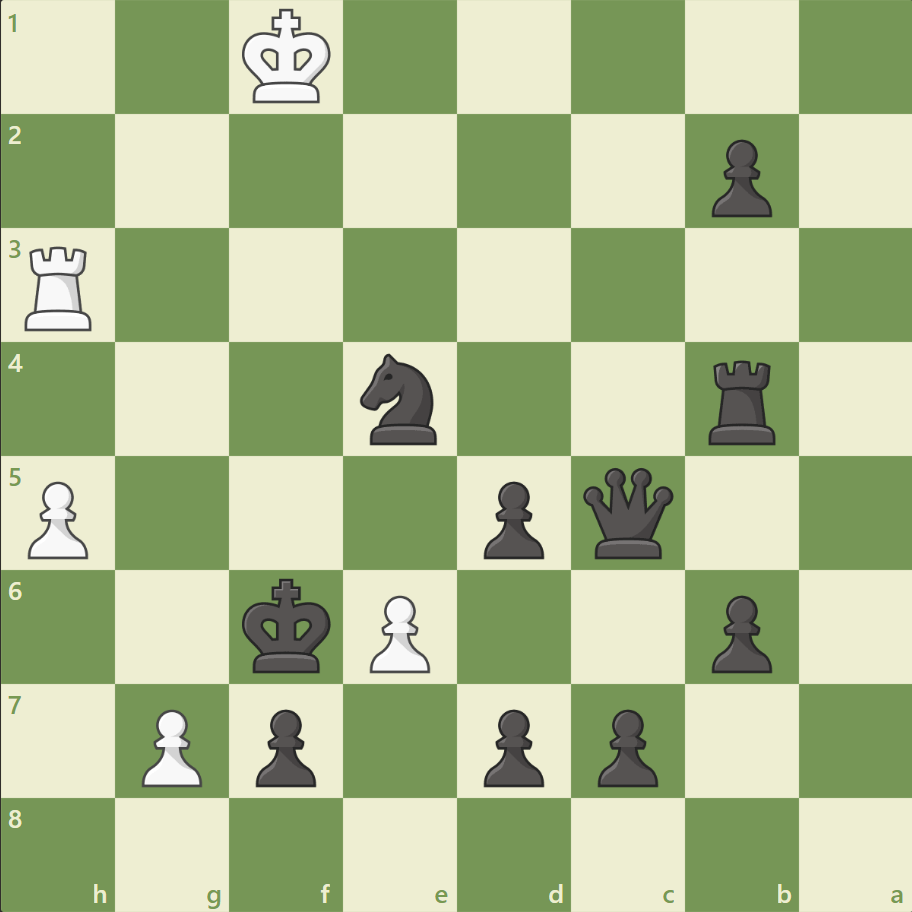K: (238, 4, 338, 112)
P: (133, 700, 208, 791), (20, 473, 95, 564), (361, 586, 435, 677)
R: (19, 239, 102, 336)
k: (238, 571, 338, 679)
n: (351, 348, 449, 450)
p: (474, 700, 549, 791), (247, 700, 322, 791), (701, 586, 776, 677), (474, 473, 549, 564), (701, 132, 776, 223), (588, 700, 662, 791)
q: (578, 463, 677, 562)
r: (700, 352, 783, 449)
